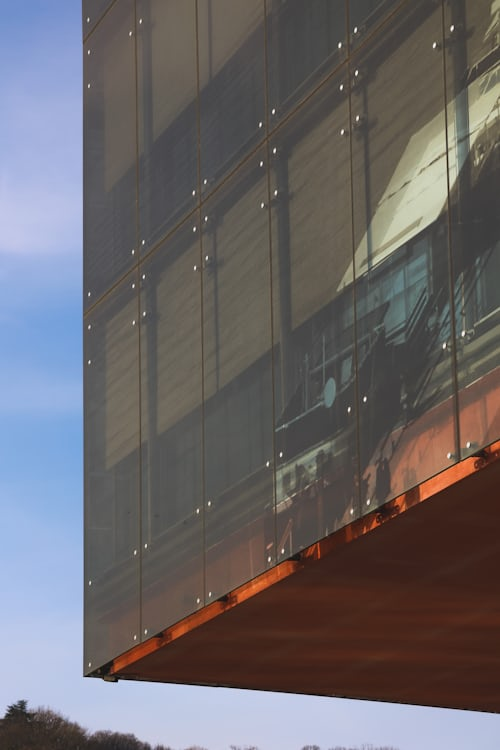glass panel: (351, 0, 455, 511), (270, 65, 357, 557), (201, 152, 274, 601), (140, 223, 202, 636), (445, 0, 499, 456), (84, 273, 139, 671), (84, 0, 135, 307), (137, 0, 197, 251), (198, 0, 264, 192), (268, 0, 346, 128), (347, 0, 403, 47), (82, 0, 112, 36)
